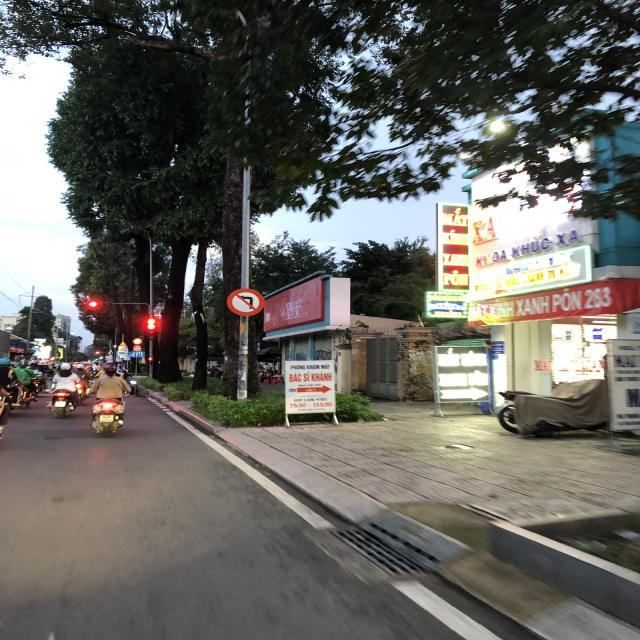Bien bao cam re trai: (222, 285, 269, 318)
